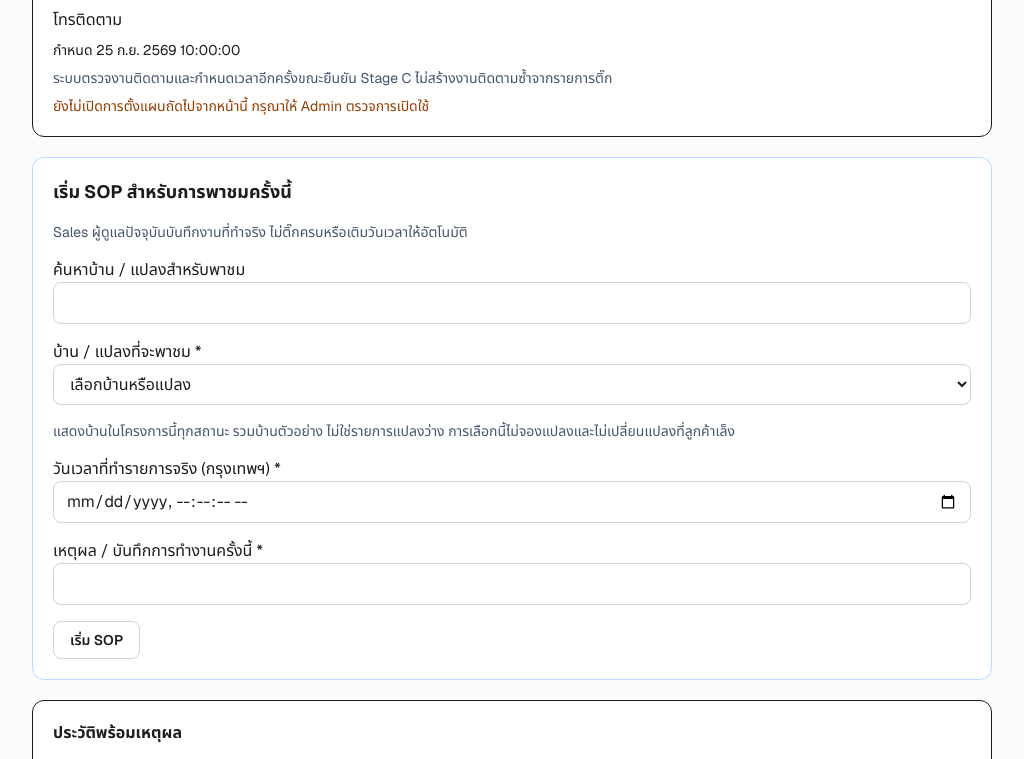
Test case: SOP workspace and command safety › hides old customer, recap and forms immediately on identity change, discarding late save UI
(page scrolled)
Step 1. Select "บ้านตัวอย่าง A1 · SYNTHETIC-HOUSE" in the dropdown labelled "บ้าน / แปลงที่จะพาชม *" → (512, 384), box [53, 364, 971, 405]
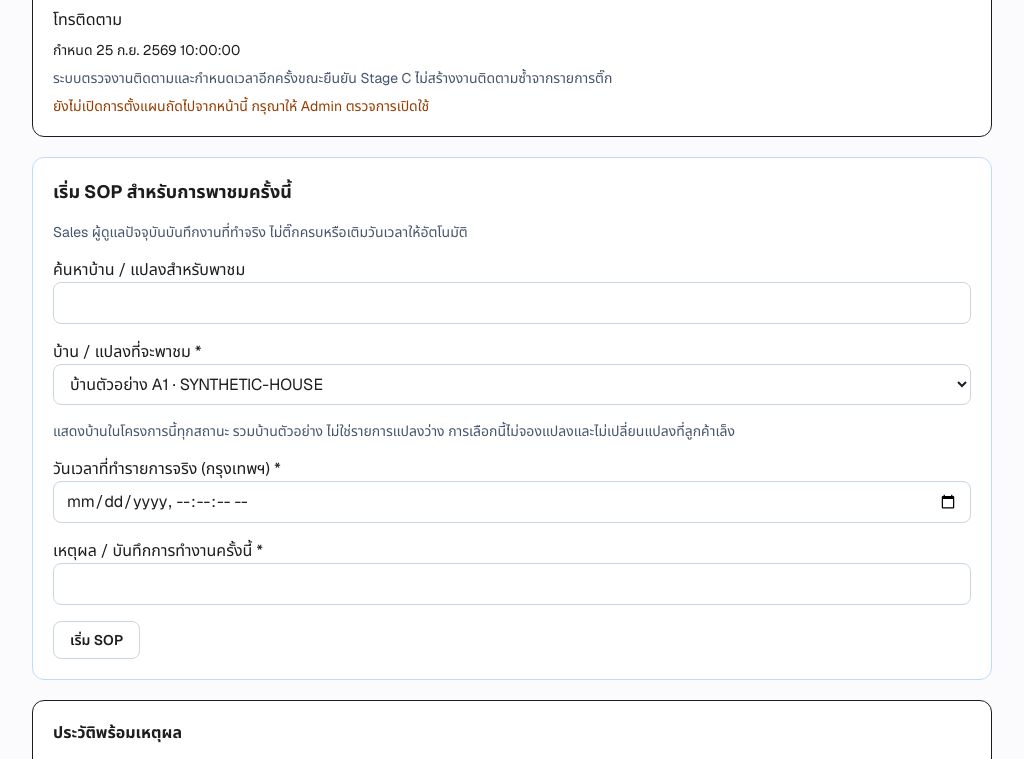
Step 2. Type "2026-09-24T12:00:00" into the field labelled "วันเวลาที่ทำรายการจริง (กรุงเทพฯ) *" → (512, 502), box [53, 481, 971, 523]
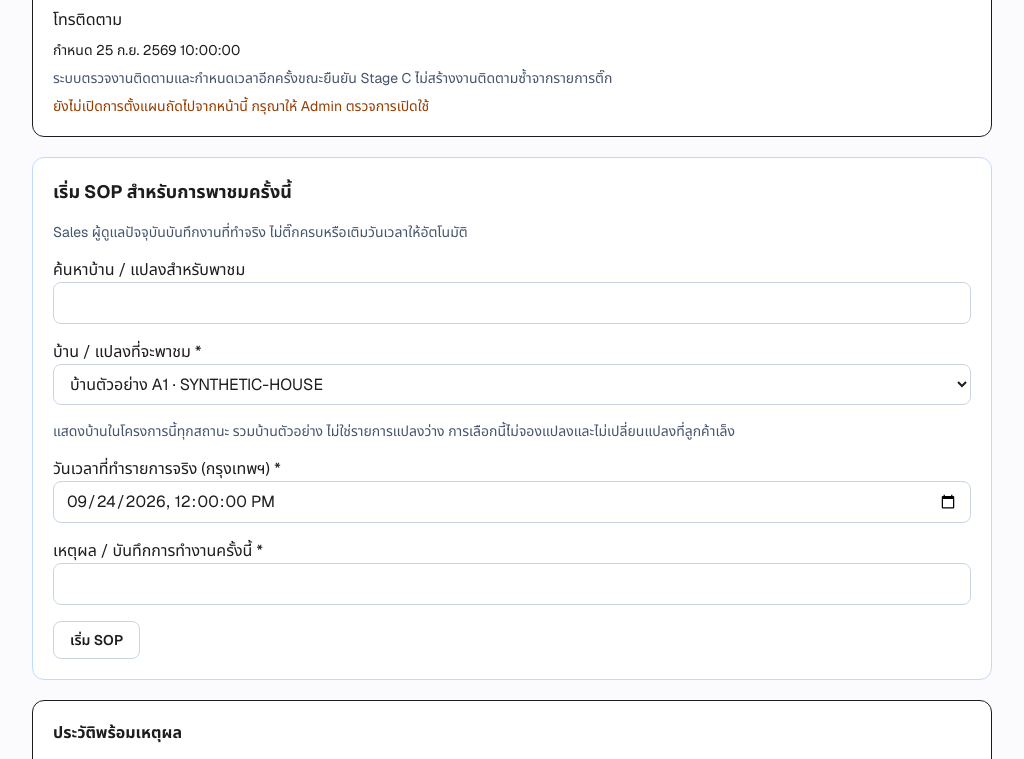
Step 3. Type "ทำตามจริง" into the field labelled "เหตุผล / บันทึกการทำงานครั้งนี้ *" → (512, 584), box [53, 563, 971, 605]
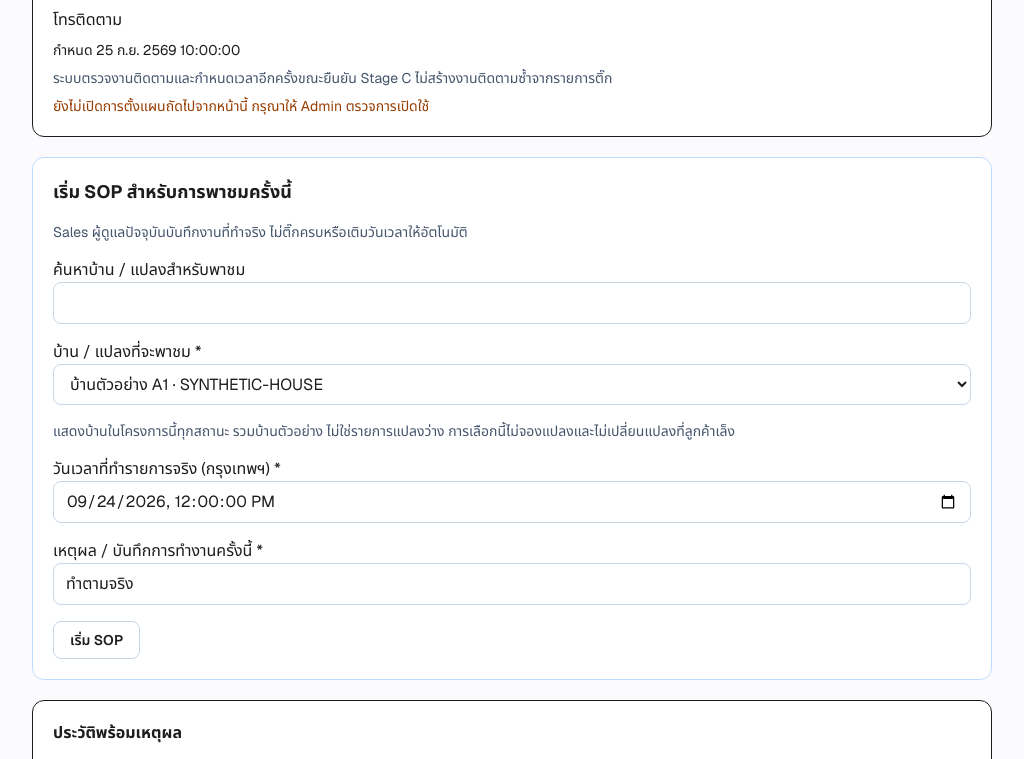
Step 4. Submit the form named "บันทึก SOP พาชม"
(page scrolled)
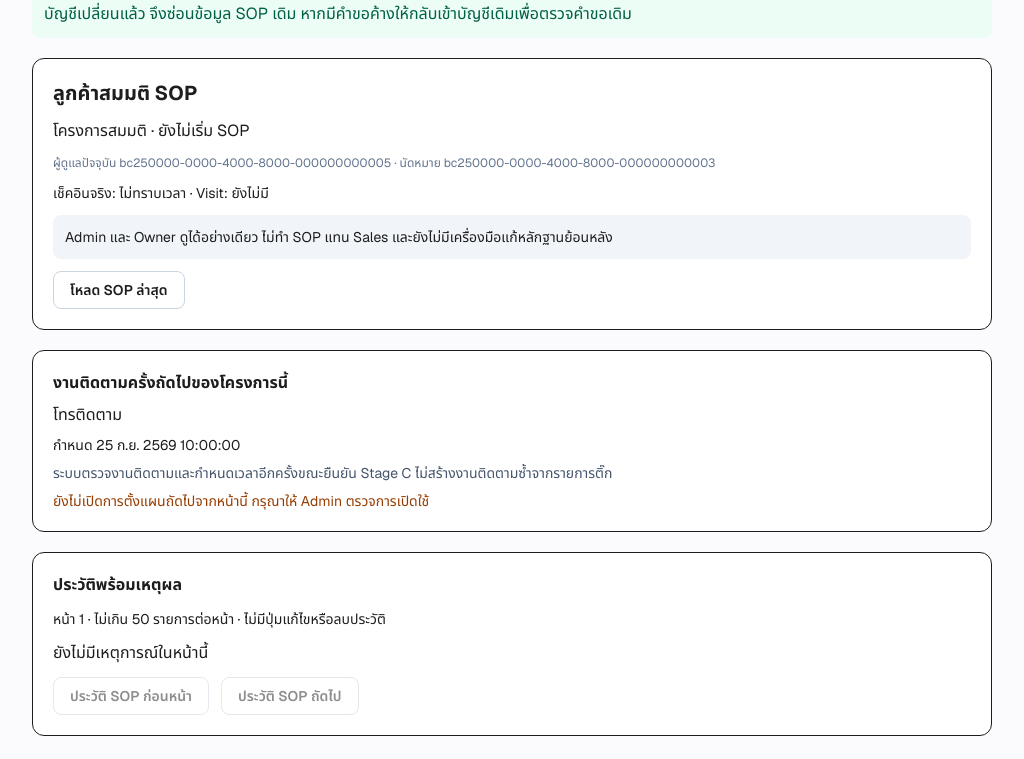
Check: the form is gone
